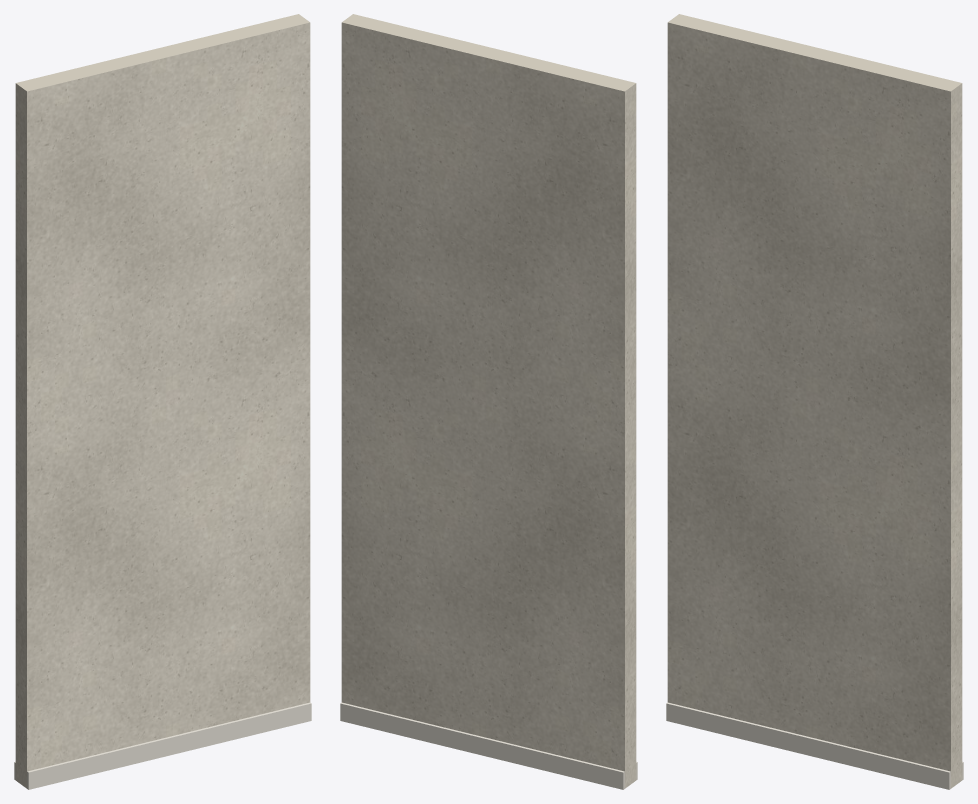
Rendered from interior_wall_end.glb.
3 renders of one model, left to right at view 1: azimuth 30°, elevation 25°; view 2: azimuth 150°, elevation 25°; view 3: azimuth 330°, elevation 25°, orthographic.
Parts seen in each view (by area): view 1: interior_wall_end_plaster, interior_wall_end_trim; view 2: interior_wall_end_plaster, interior_wall_end_trim; view 3: interior_wall_end_plaster, interior_wall_end_trim.
Part boxes in pixels (<box>): interior_wall_end_plaster: <box>15,14,310,788</box>; interior_wall_end_trim: <box>14,702,311,789</box>; interior_wall_end_plaster: <box>341,14,636,788</box>; interior_wall_end_trim: <box>340,702,637,789</box>; interior_wall_end_plaster: <box>667,14,962,788</box>; interior_wall_end_trim: <box>666,702,963,789</box>.
Size of the model in its own units: 1.7 by 4 by 0.15.
2 materials, 1 textured.
